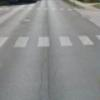crosswalks: (0, 35, 100, 53)
